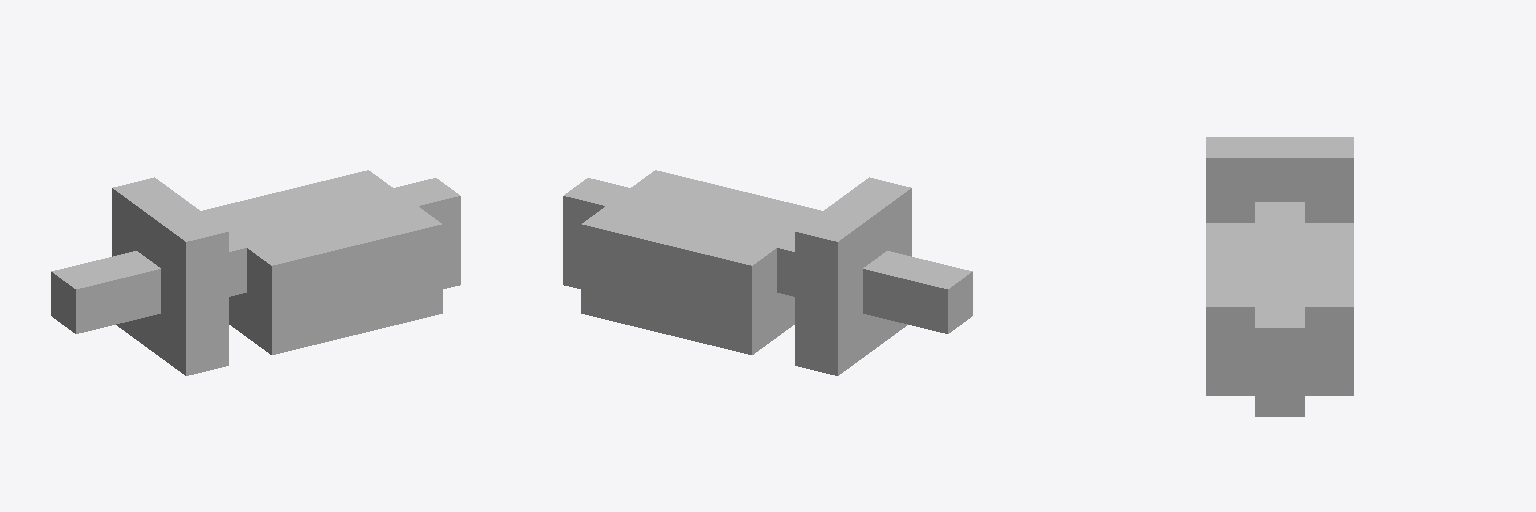
The model's file is obj_toy_doll.obj.
3 views of the same model, side by side, from view 1: azimuth 30°, elevation 25°; view 2: azimuth 150°, elevation 25°; view 3: azimuth 270°, elevation 25° (orthographic).
Visible parts, largest first — view 1: obj_toy_doll; view 2: obj_toy_doll; view 3: obj_toy_doll.
Boxes of the visible parts, box(x1,y1,x2,y2) form: obj_toy_doll: box(51, 170, 460, 375); obj_toy_doll: box(563, 170, 972, 375); obj_toy_doll: box(1206, 137, 1353, 416).
Bounding box in the file's own units: 9 × 3 × 3.